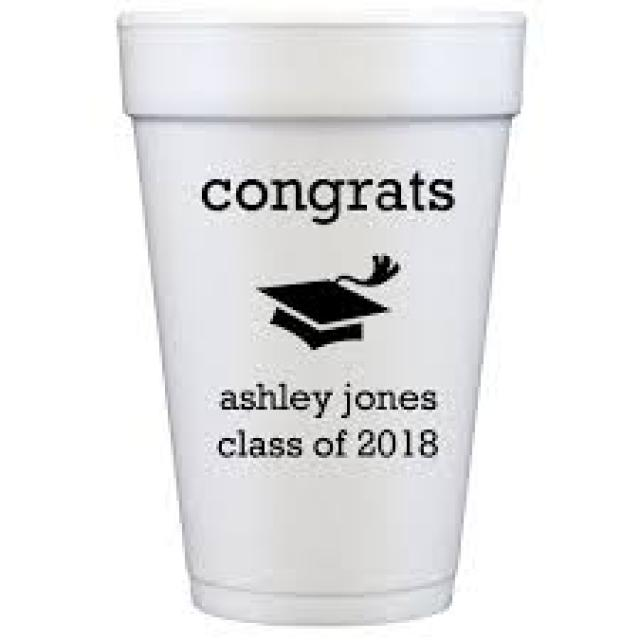cup: (118, 3, 530, 618)
